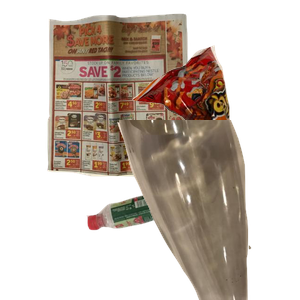glass: (115, 120, 300, 300)
paper: (44, 11, 229, 181)
plastic: (84, 191, 242, 300)
trash: (130, 43, 300, 190)
